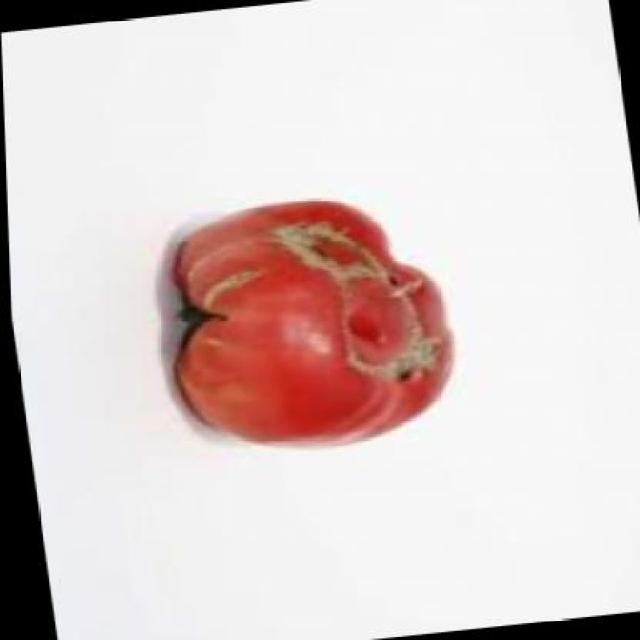overripe tomato: (163, 186, 470, 468)
